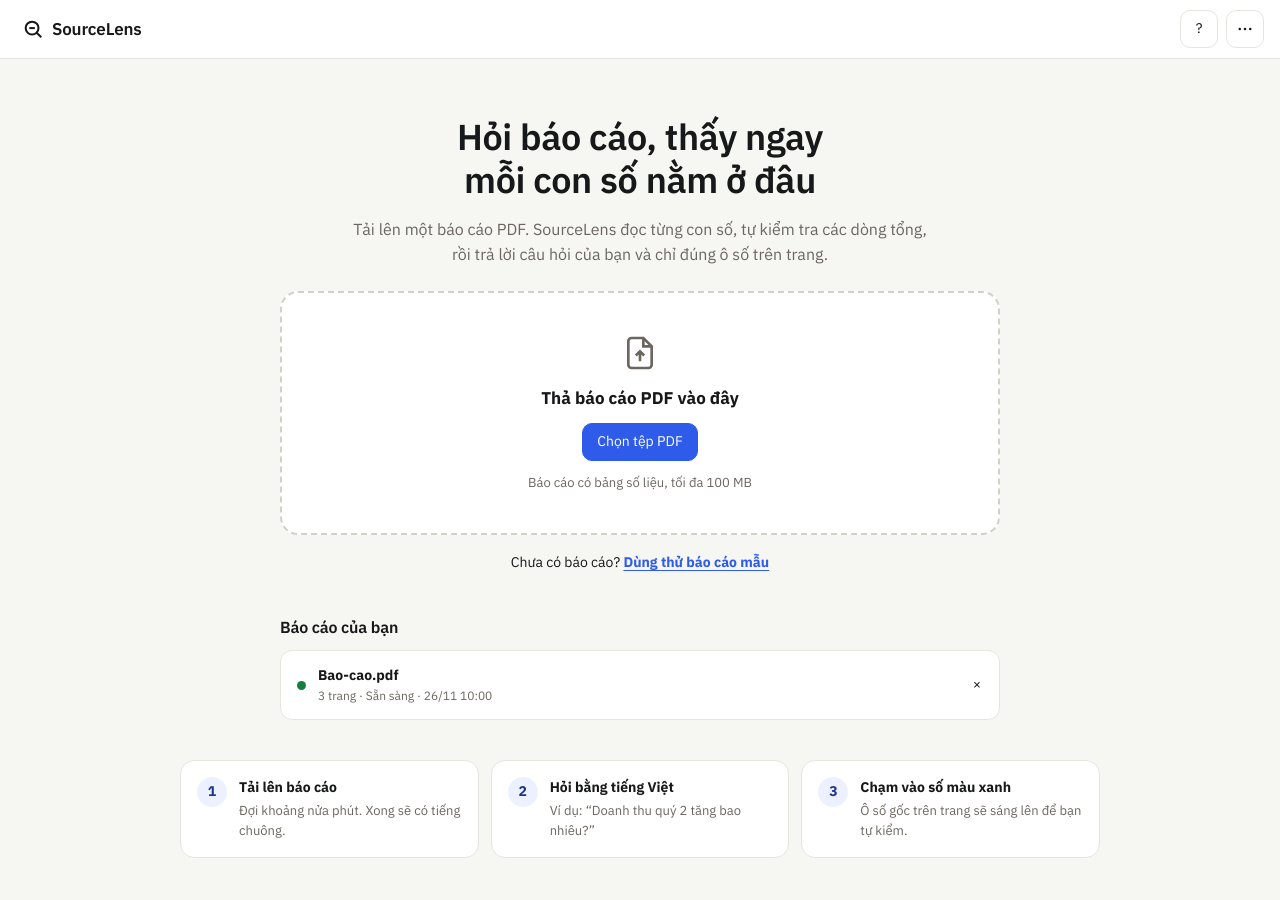
Test: opens on the home screen with the drop zone, the sample and recent reports
The width and height of the screenshot is (1280, 900).
Expected: the text "Thả báo cáo PDF vào đây" is shown, [541,385,739,411]
Expected: the text "Dùng thử báo cáo mẫu" is shown, [623,554,769,572]
Step 1. Click the text "Bao-cao.pdf" → (358, 675), box [318,666,398,684]
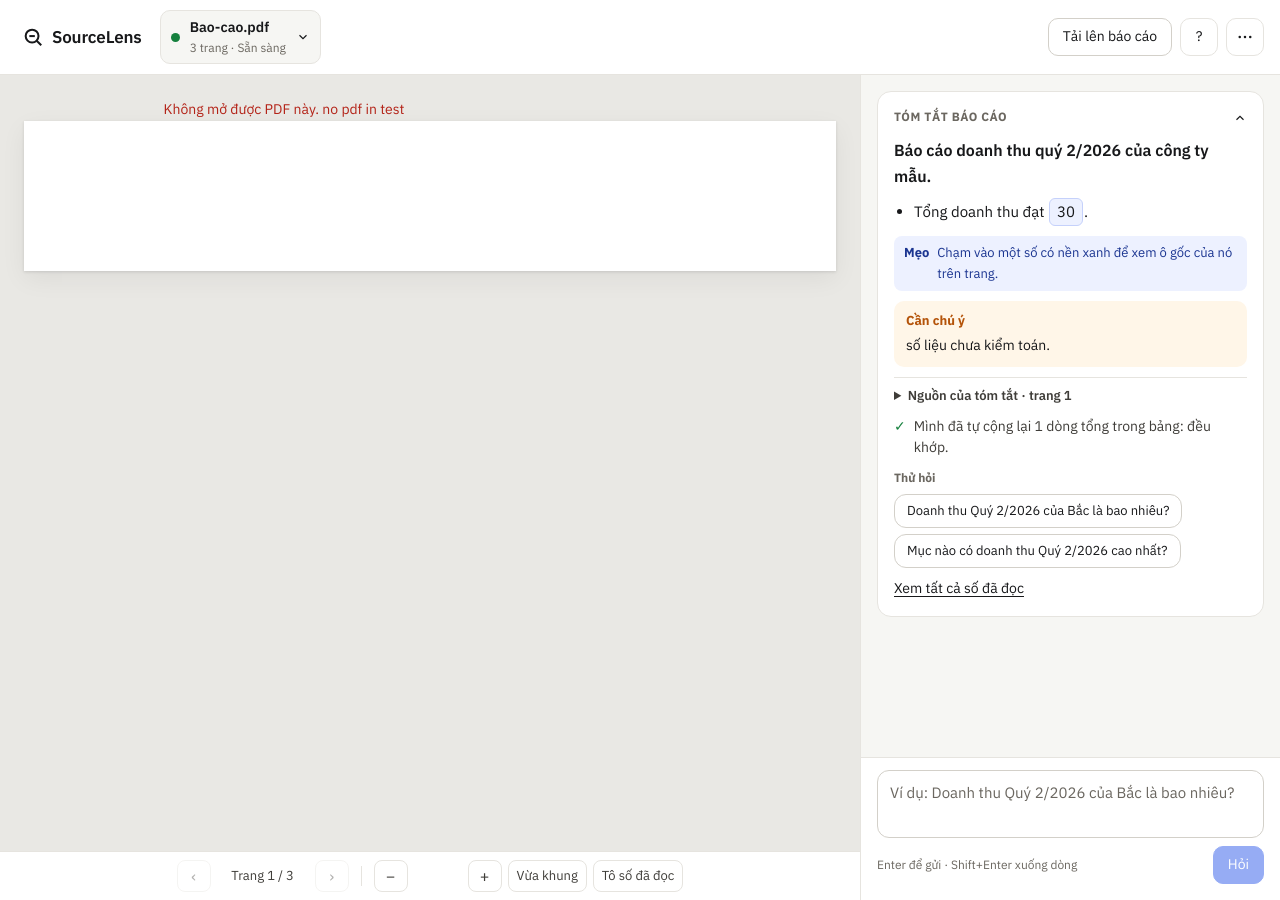
Expected: the text "Báo cáo doanh thu quý 2/2026 của công ty mẫu." is shown, [894,140,1209,186]
Expected: the text "Cần chú ý" is shown, [906,312,965,329]
Expected: the text "✓ Mình đã tự cộng lại 1 dòng tổng trong bảng: đều khớp." is shown, [894,416,1247,459]
